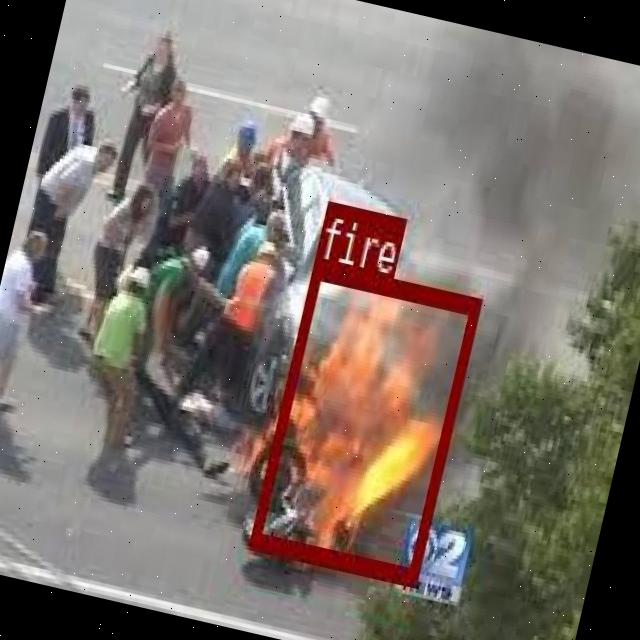fire: (248, 258, 481, 581)
